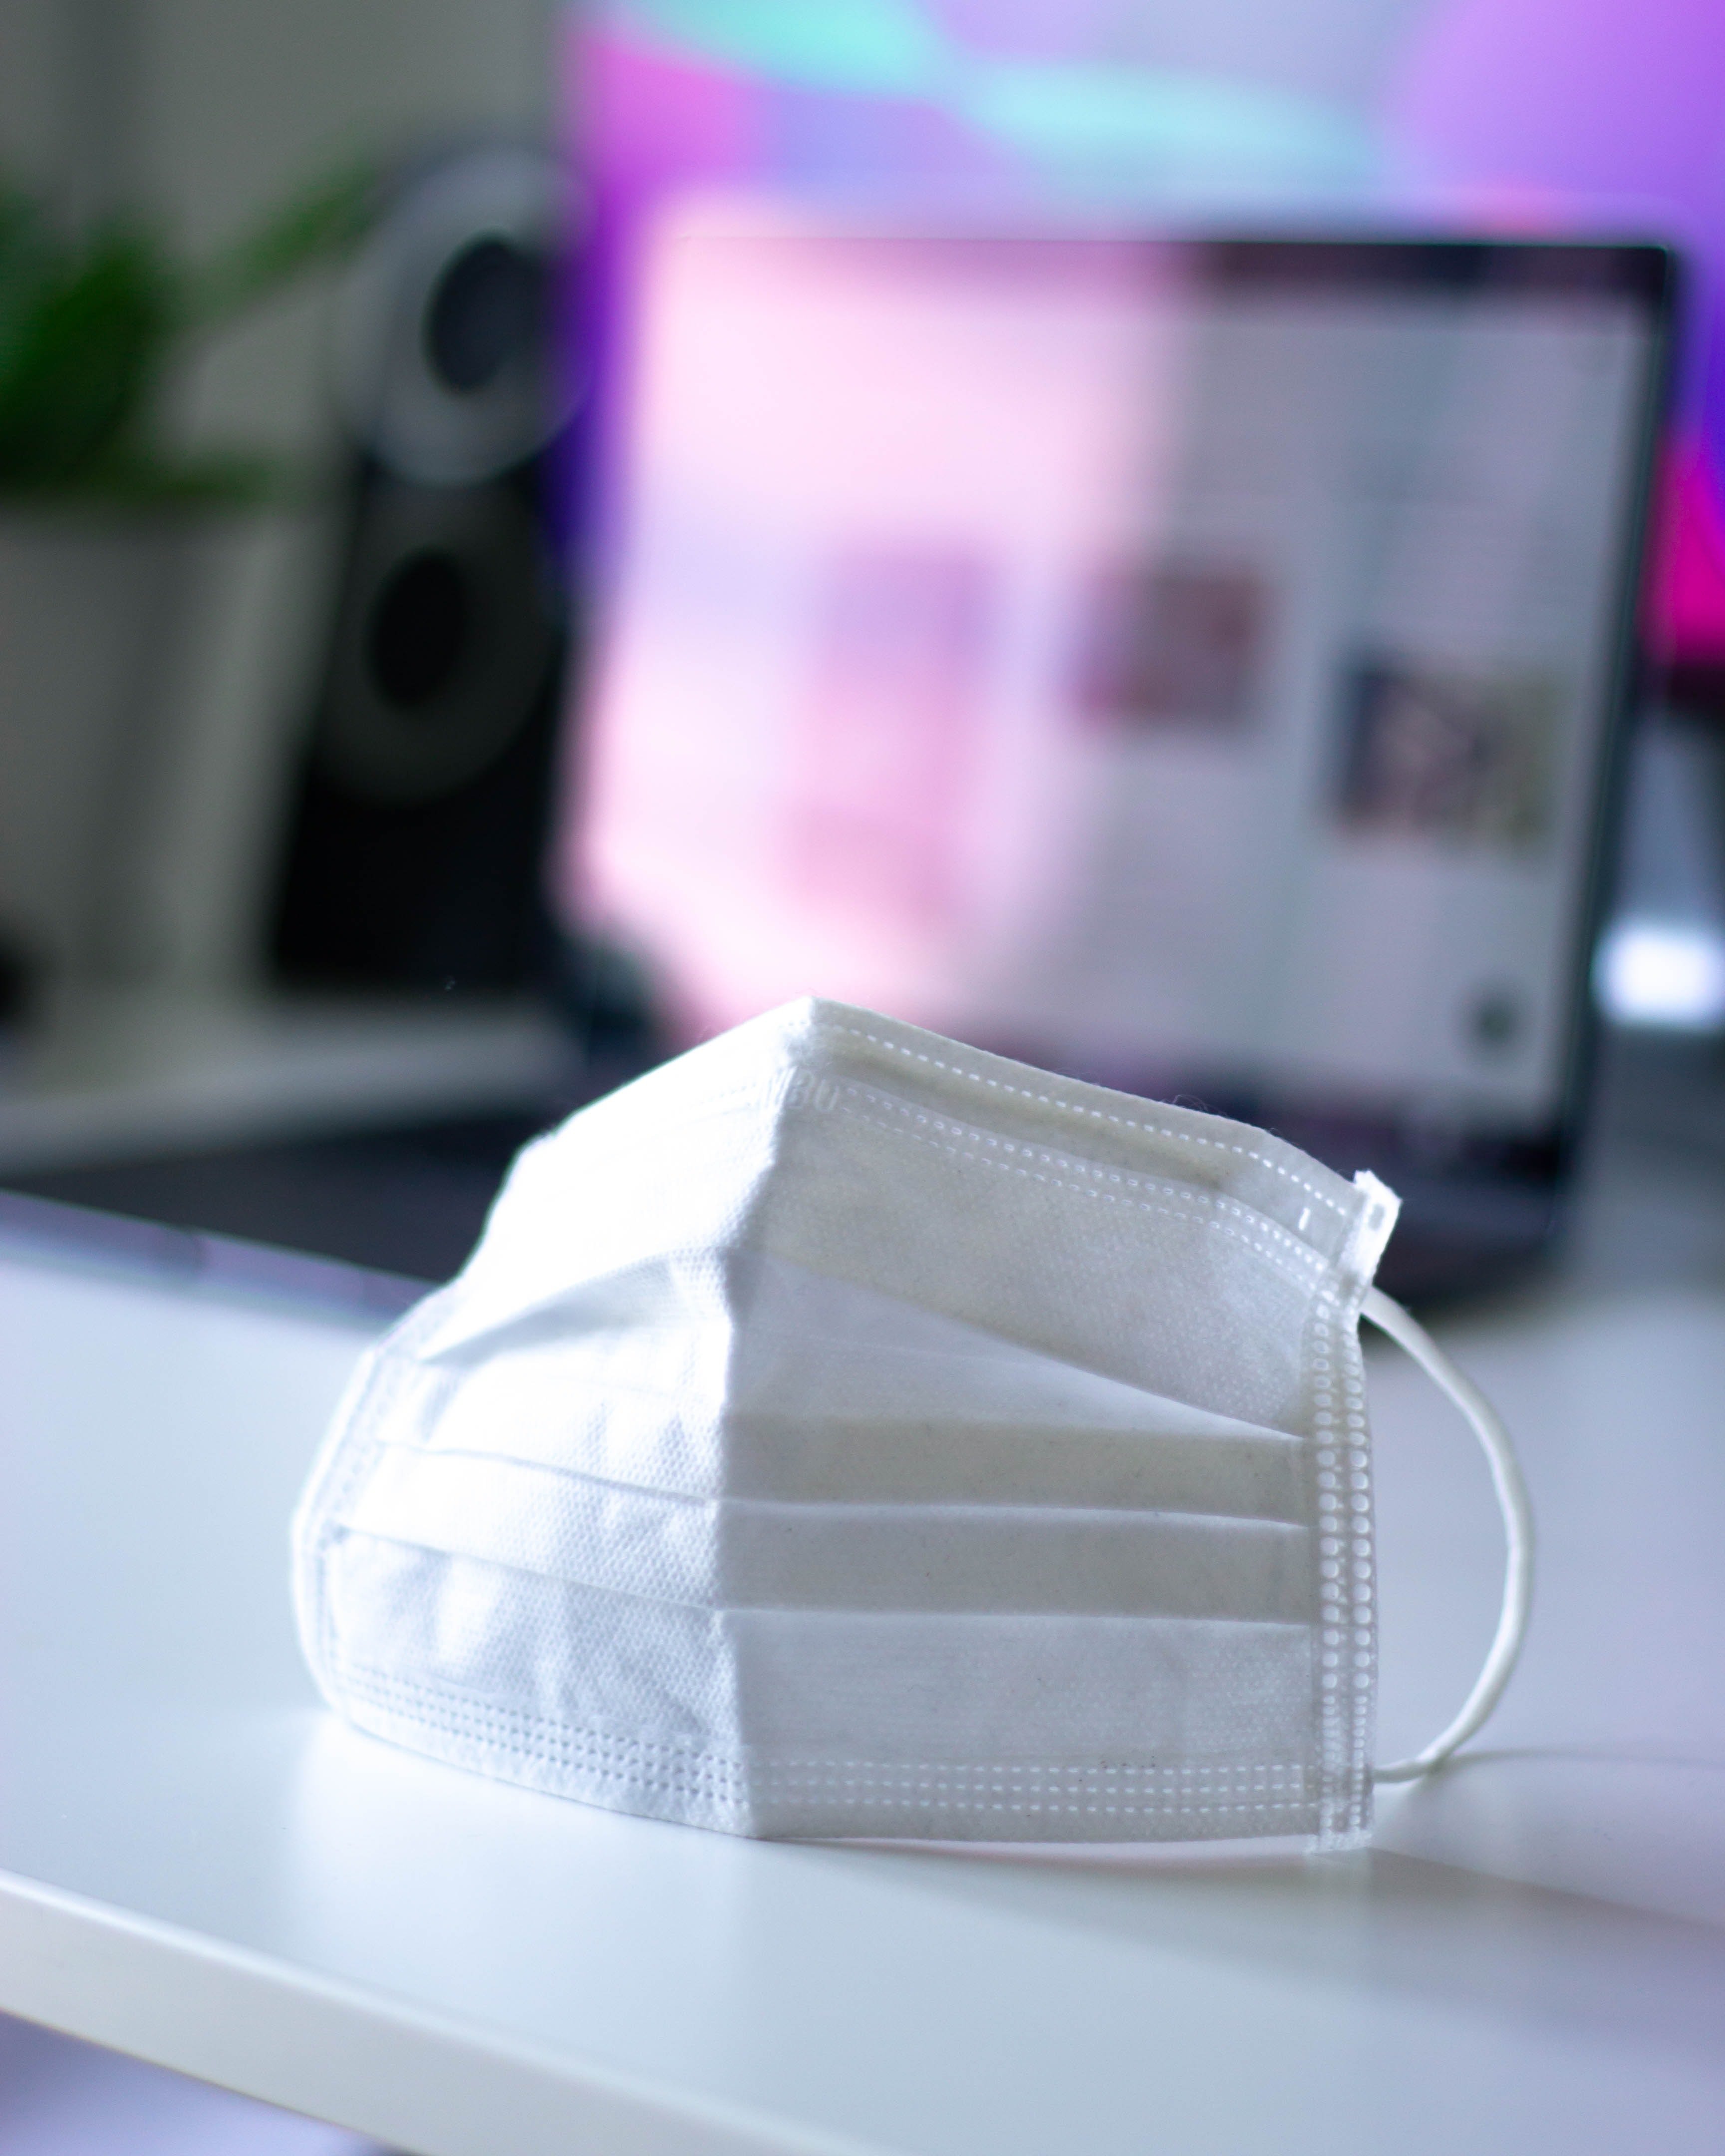mask: (285, 1005, 1547, 1925)
